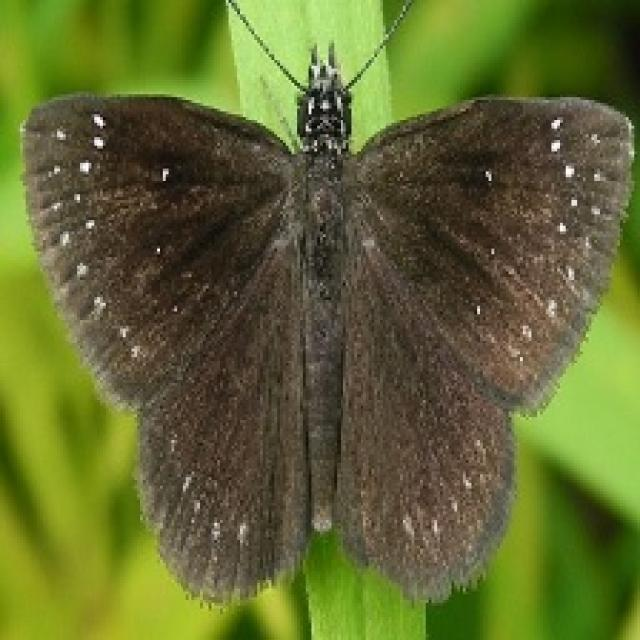butterfly: (14, 0, 637, 609)
